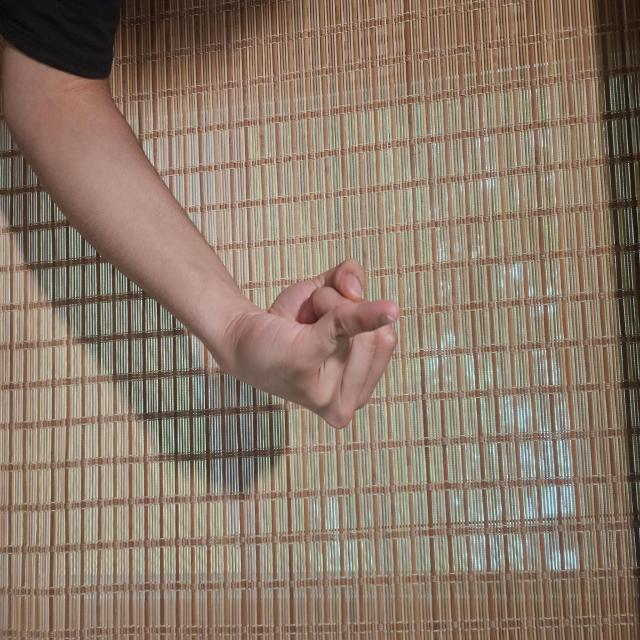I: (348, 317, 486, 557)
